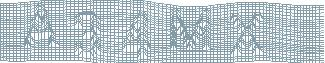3: (72, 11, 102, 60)
4: (121, 10, 153, 60)
A: (21, 1, 61, 50)
M: (167, 7, 213, 52)
X: (228, 12, 265, 58)
